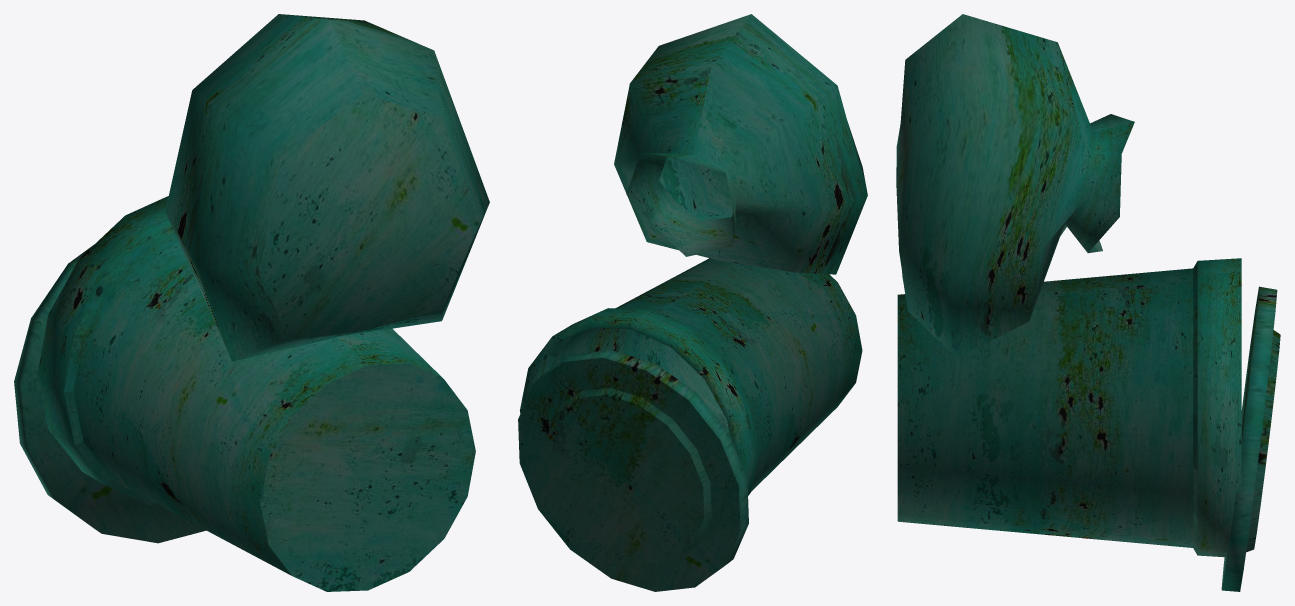
Rendered from trashBin.fbx.
The picture shows the model from 3 angles, left to right: view 1: azimuth 30°, elevation 25°; view 2: azimuth 150°, elevation 25°; view 3: azimuth 270°, elevation 25°; orthographic projection. The views are drawn at different scales.
Parts seen in each view (by area): view 1: trashBin; view 2: trashBin; view 3: trashBin.
Boxes of the visible parts, x1=… form: trashBin: x1=14, y1=14, x2=489, y2=591; trashBin: x1=518, y1=14, x2=867, y2=591; trashBin: x1=896, y1=14, x2=1280, y2=591.
Size of the model in its own units: 87.77 by 171 by 105.
